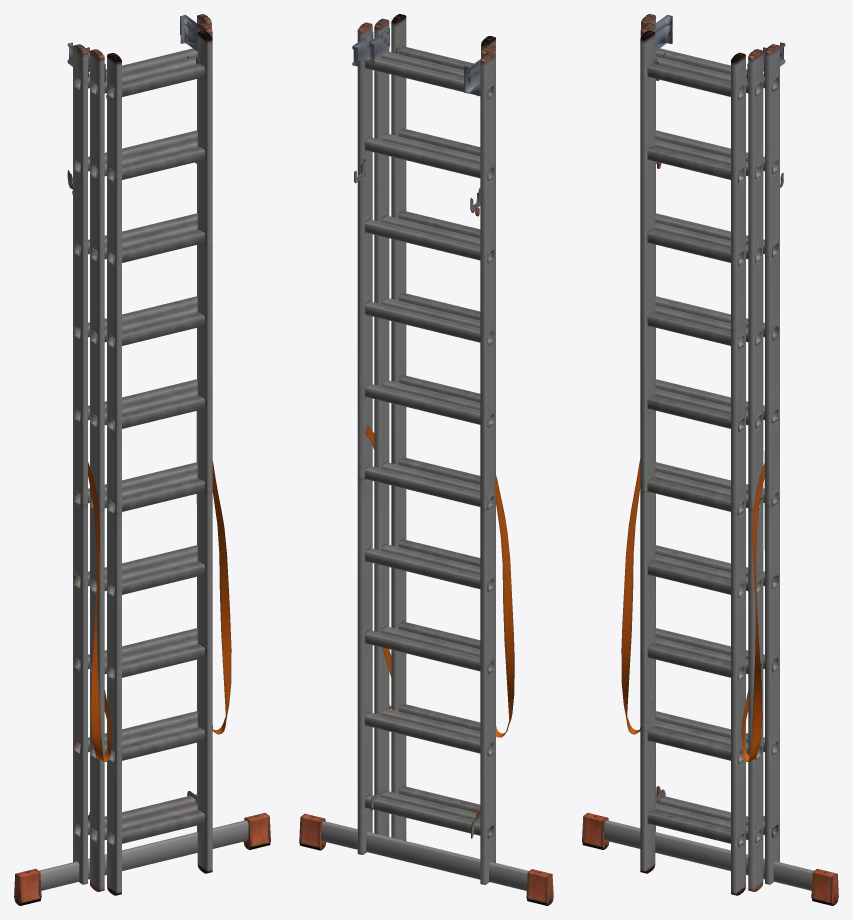
The model's file is ladder_sectioned_01.glb.
The picture shows the model from 3 angles, left to right: view 1: azimuth 30°, elevation 25°; view 2: azimuth 150°, elevation 25°; view 3: azimuth 330°, elevation 25°; orthographic projection.
Visible parts, largest first — view 1: ladder_section_03, ladder_section_01, ladder_section_02, ladder_ribbon; view 2: ladder_section_01, ladder_section_02, ladder_section_03, ladder_ribbon; view 3: ladder_section_03, ladder_section_01, ladder_section_02, ladder_ribbon.
Boxes of the visible parts, <box> form: ladder_section_03: <box>106,30,212,895</box>; ladder_section_01: <box>14,14,270,905</box>; ladder_section_02: <box>86,23,212,891</box>; ladder_ribbon: <box>88,461,231,761</box>; ladder_section_01: <box>299,22,553,905</box>; ladder_section_02: <box>369,18,495,862</box>; ladder_section_03: <box>388,14,495,862</box>; ladder_ribbon: <box>365,426,514,737</box>; ladder_section_03: <box>640,30,745,895</box>; ladder_section_01: <box>582,14,838,905</box>; ladder_section_02: <box>640,23,766,891</box>; ladder_ribbon: <box>621,459,764,761</box>.
Size of the model in its own units: 0.6616 by 2.13 by 0.1776.
Materials: 1 (1 with a texture image).
